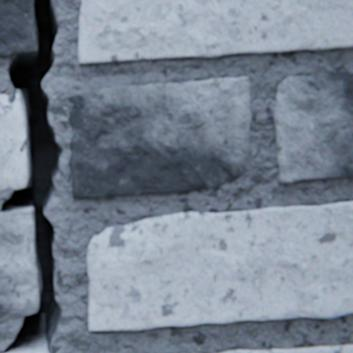brick: (87, 201, 352, 330), (68, 77, 250, 197), (78, 0, 352, 63), (273, 71, 352, 182), (0, 209, 38, 317), (0, 95, 26, 189), (0, 0, 37, 58), (219, 344, 352, 352), (8, 351, 48, 352)
crack: (1, 0, 61, 352)
